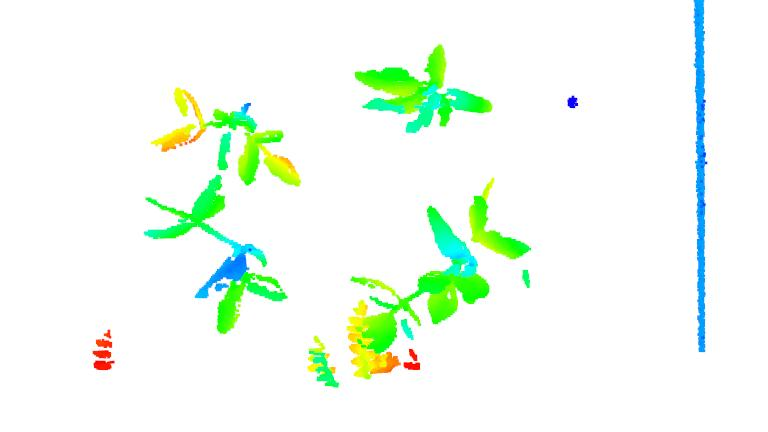mungbean: (360, 191, 538, 349), (141, 193, 294, 338), (147, 83, 309, 196), (347, 47, 503, 133)
